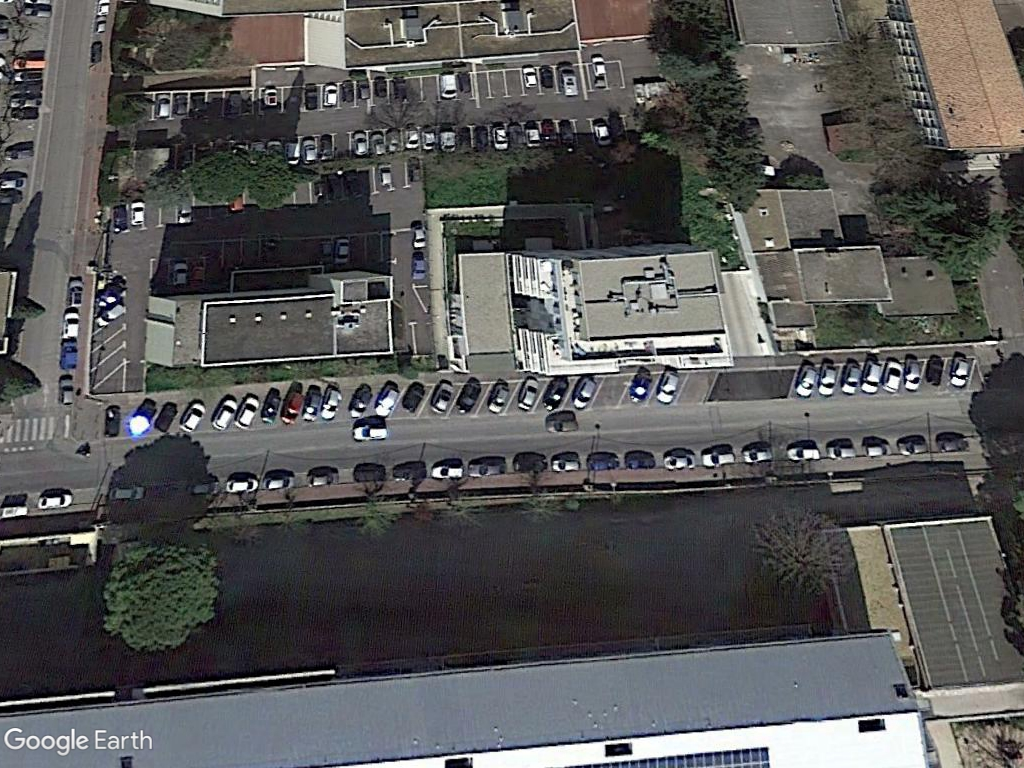car: (346, 420, 392, 442), (466, 459, 511, 480), (220, 474, 264, 495), (701, 448, 739, 471), (783, 442, 823, 463), (436, 68, 460, 103), (106, 483, 150, 502), (659, 452, 700, 472), (934, 435, 972, 456), (895, 438, 932, 459), (303, 469, 342, 488), (427, 463, 468, 481), (827, 441, 859, 463), (548, 455, 585, 473), (299, 136, 321, 166), (154, 87, 173, 121), (62, 308, 81, 342), (129, 198, 148, 231), (860, 441, 894, 459), (187, 480, 225, 496), (35, 494, 75, 509), (321, 80, 340, 111), (351, 129, 371, 158), (263, 474, 298, 489), (522, 63, 539, 91)
